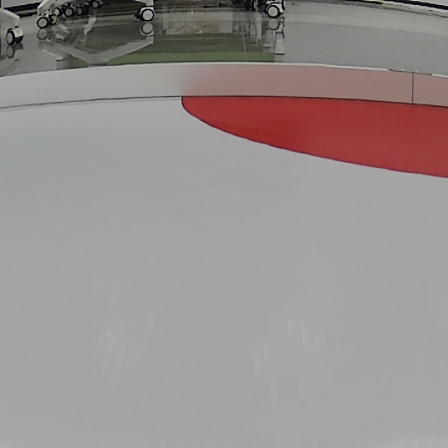red_base: (181, 92, 448, 181)
